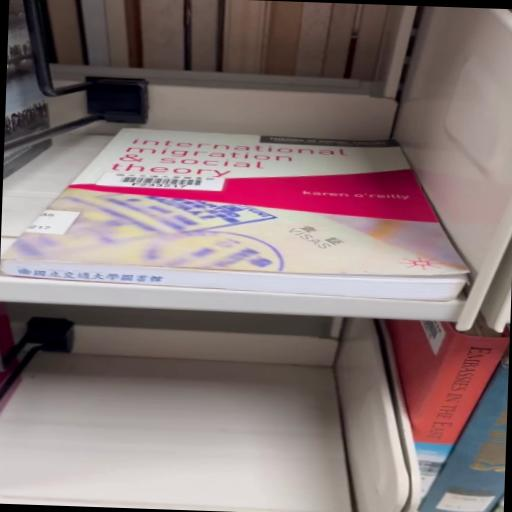flat: (1, 129, 468, 300)
